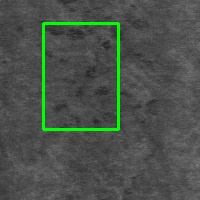rolled-in_scale: (43, 23, 118, 129)
